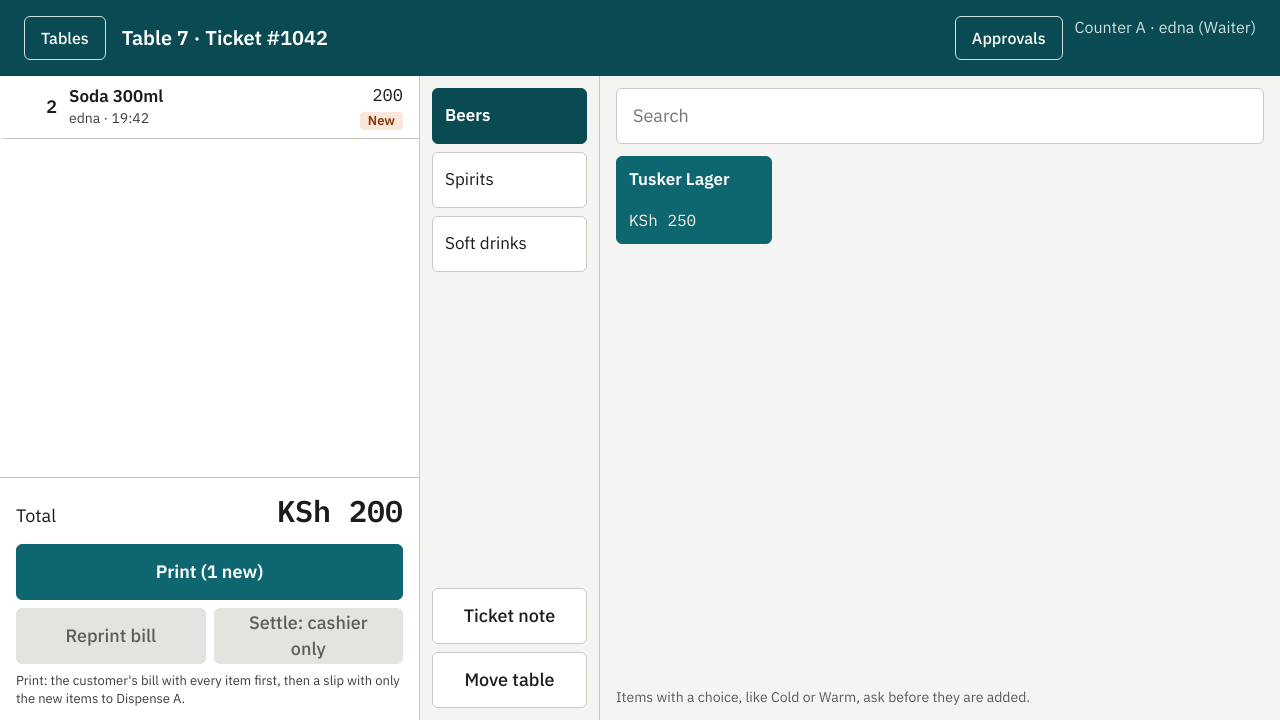
order screen › the pop-up keeps Add disabled until a required choice without a default is made
This screenshot has width=1280, height=720.
expect the button "2 Soda 300ml edna · 19:42 200 New" is shown: met, box [0,76,419,139]
Click the button "Spirits".
click(510, 180)  # box [432,152,587,208]
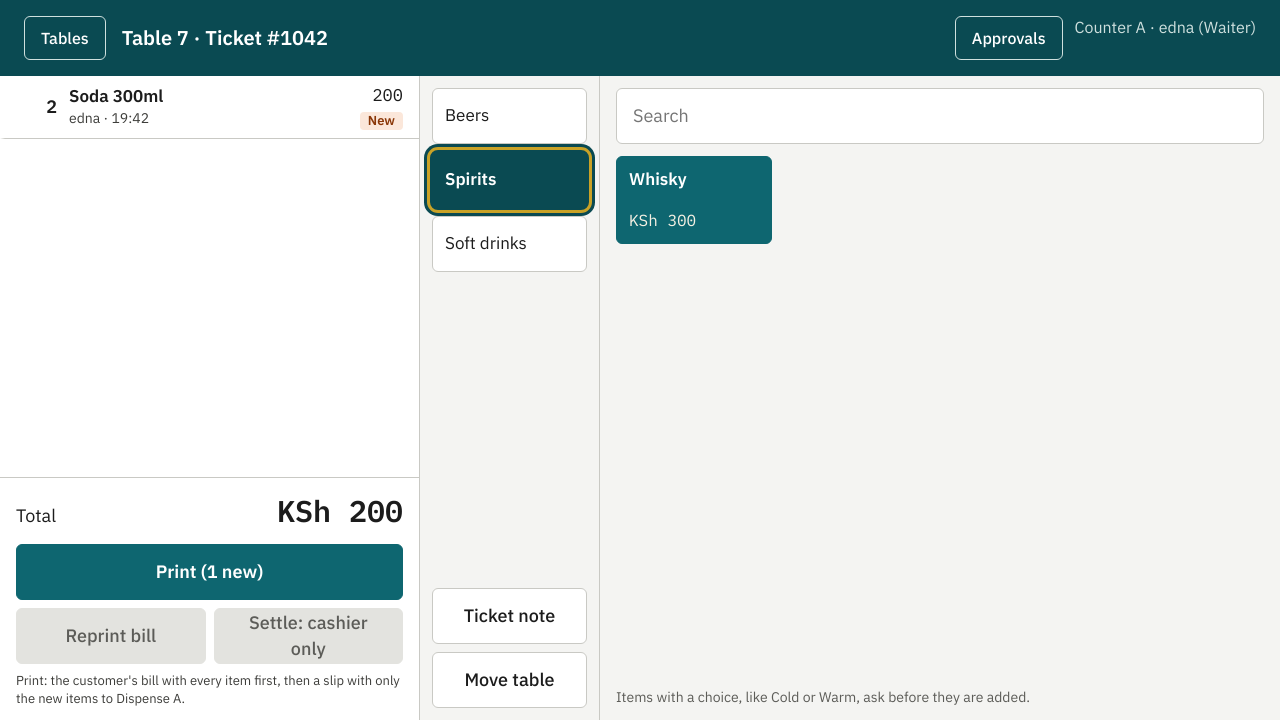
Click the button "Whisky KSh 300".
click(694, 200)  # box [616,156,772,244]
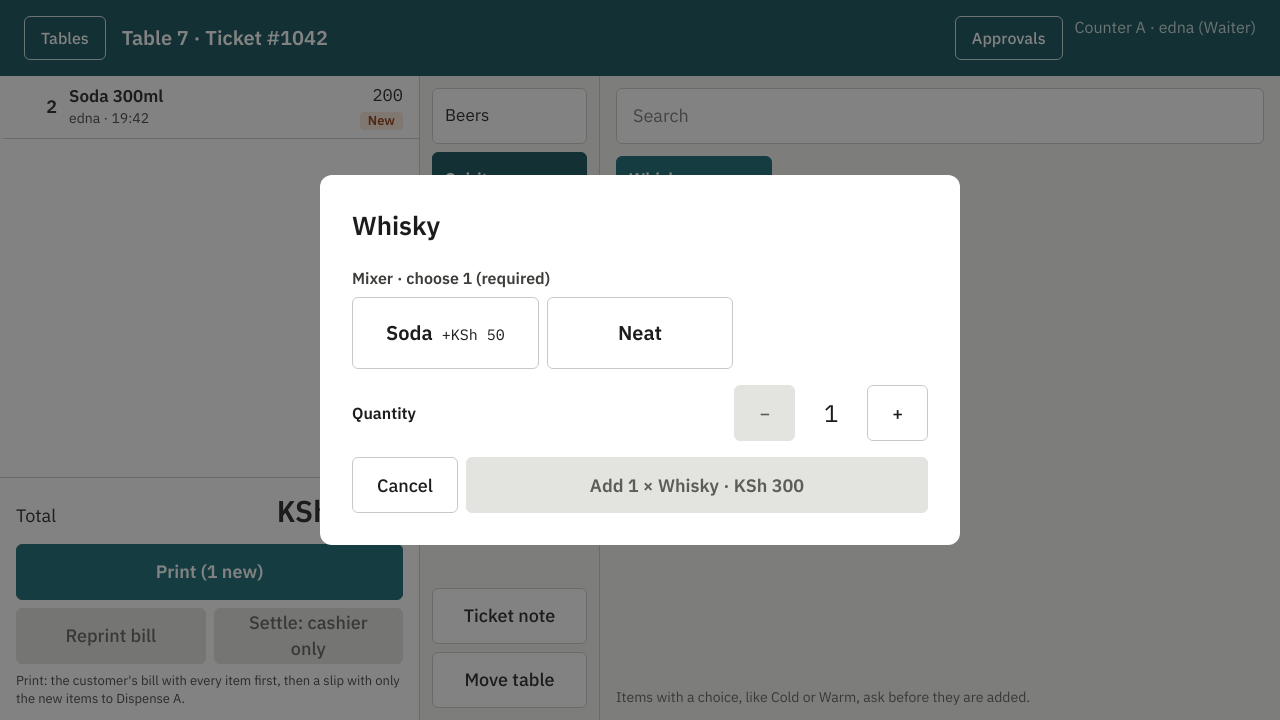
expect the button "Add 1 × Whisky · KSh 300" is disabled: met, box [466,457,928,513]
Click the button "Soda +KSh 50".
click(445, 333)  # box [352,297,539,369]
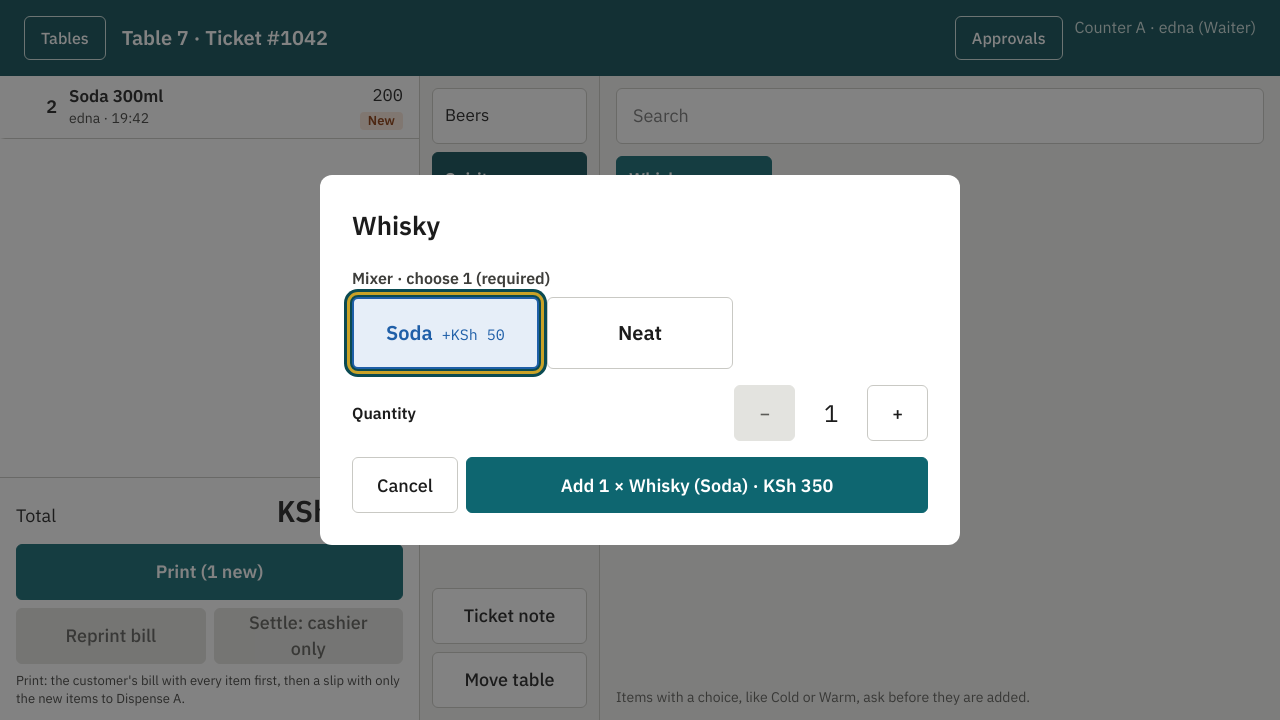
expect the button "Add 1 × Whisky (Soda) · KSh 350" is enabled: met, box [466,457,928,513]
Click the button "Cancel".
click(405, 485)  # box [352,457,458,513]
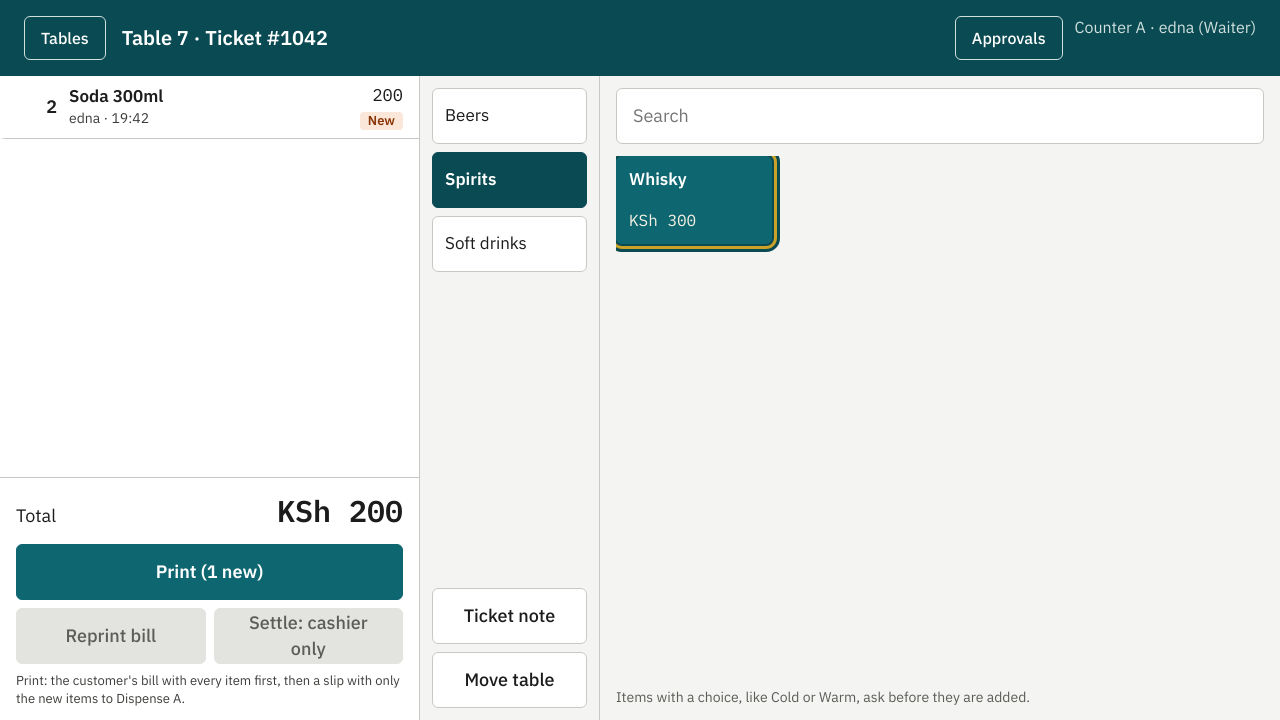
expect the dialog is gone: met
